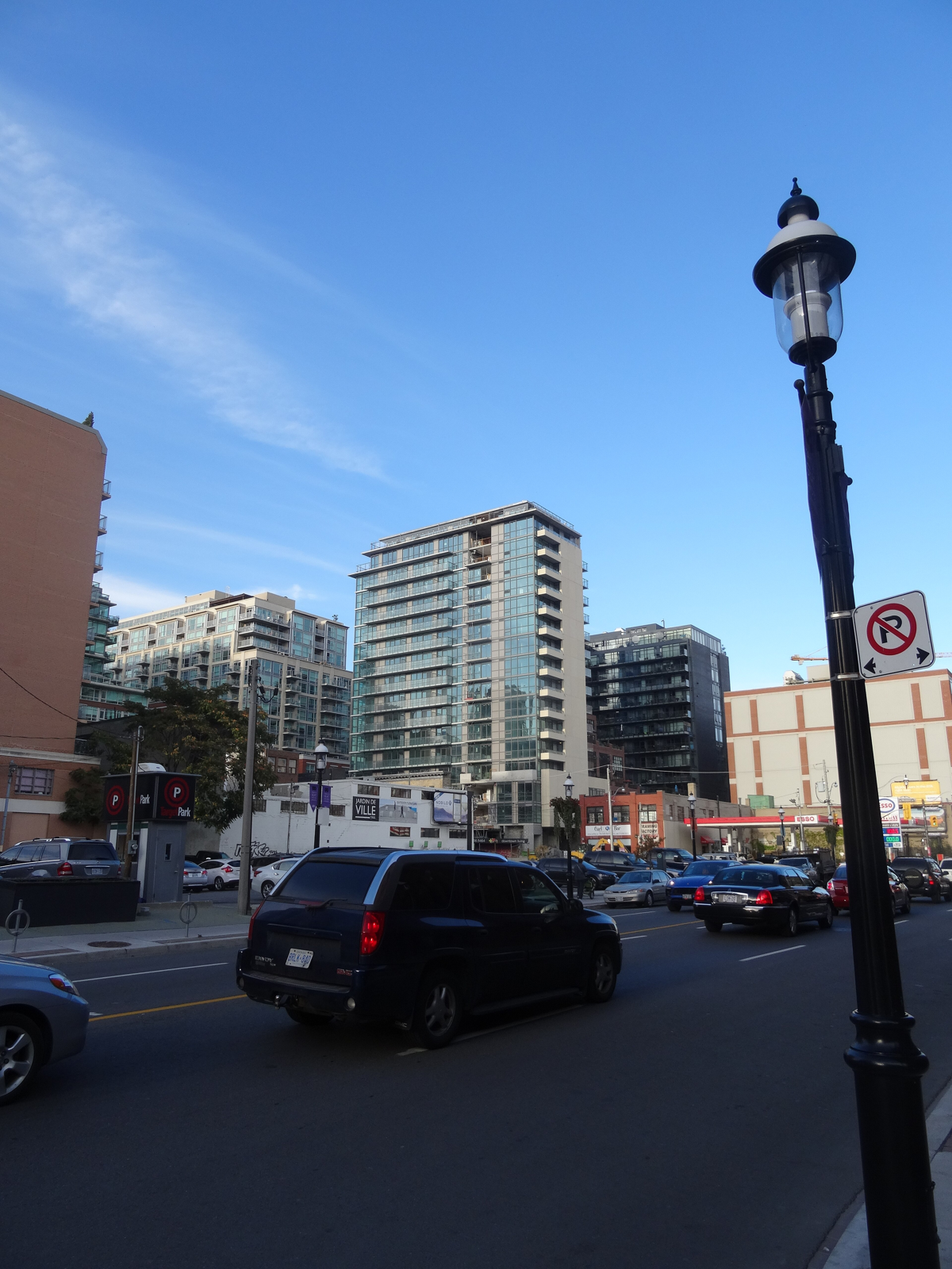fachada: (337, 512, 595, 797), (111, 579, 361, 793), (4, 369, 103, 813), (583, 599, 746, 809)
poste: (730, 182, 952, 1269)
